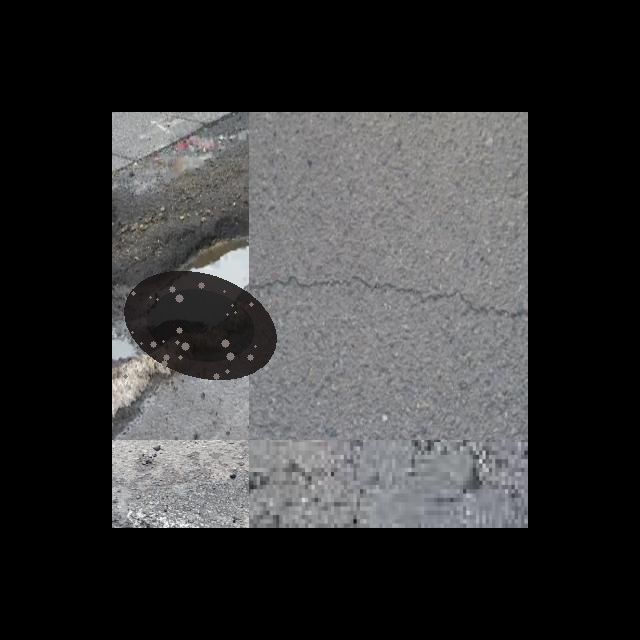pothole: (117, 269, 283, 381)
